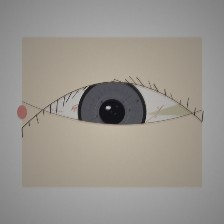pterygium_lesion: (139, 86, 203, 138)
